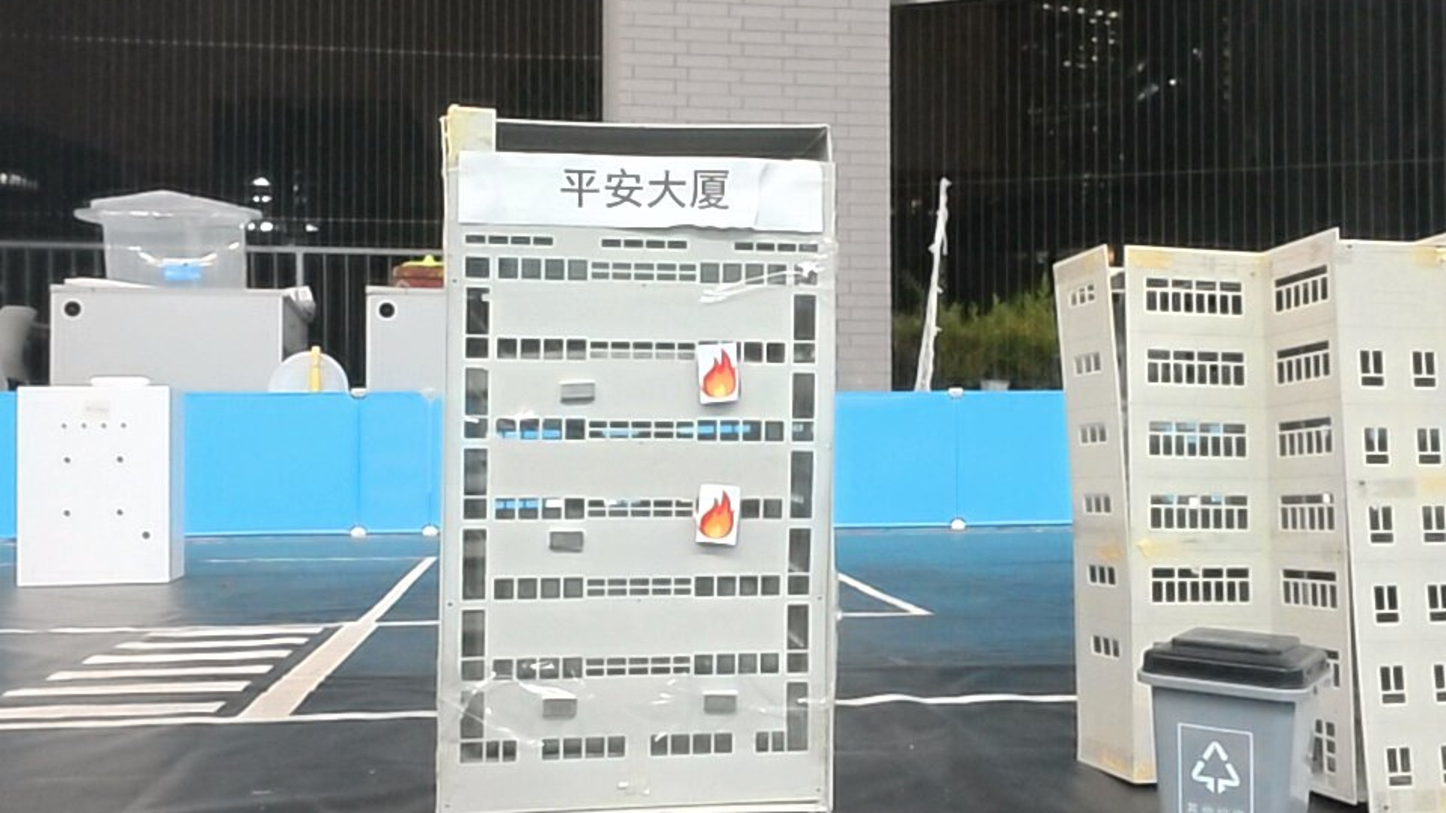fire: (697, 485, 741, 544), (698, 344, 741, 403)
